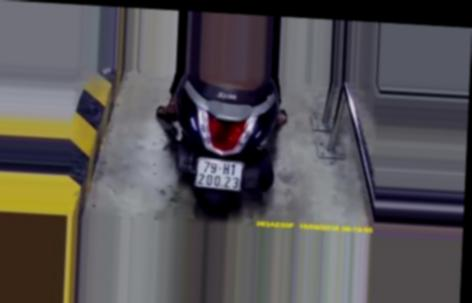License_Plate: (193, 155, 247, 194)
